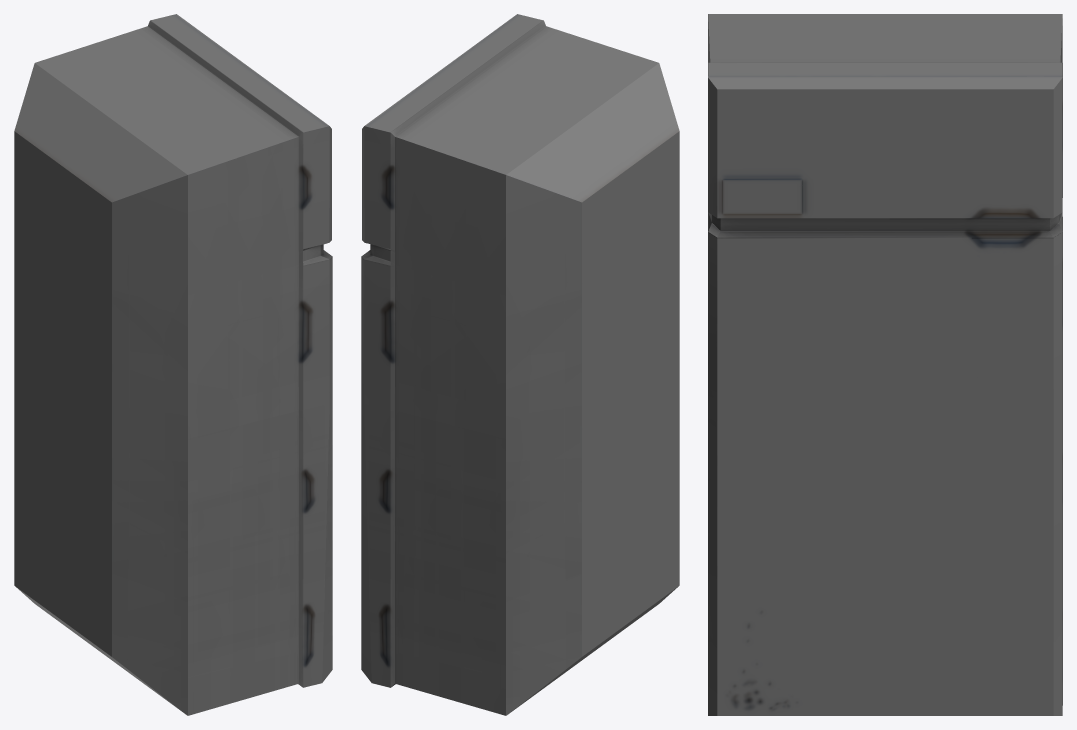
The model's file is m_fridge.fbx.
The picture shows the model from 3 angles, left to right: view 1: azimuth 30°, elevation 25°; view 2: azimuth 150°, elevation 25°; view 3: azimuth 270°, elevation 25°; orthographic projection. The views are drawn at different scales.
Visible parts, largest first — view 1: m_fridge; view 2: m_fridge; view 3: m_fridge.
Boxes of the visible parts, bbox=[...] form: m_fridge: bbox=[14, 14, 332, 715]; m_fridge: bbox=[361, 14, 679, 715]; m_fridge: bbox=[708, 14, 1062, 715].
Bounding box in the file's own units: 74.2 × 200 × 100.
